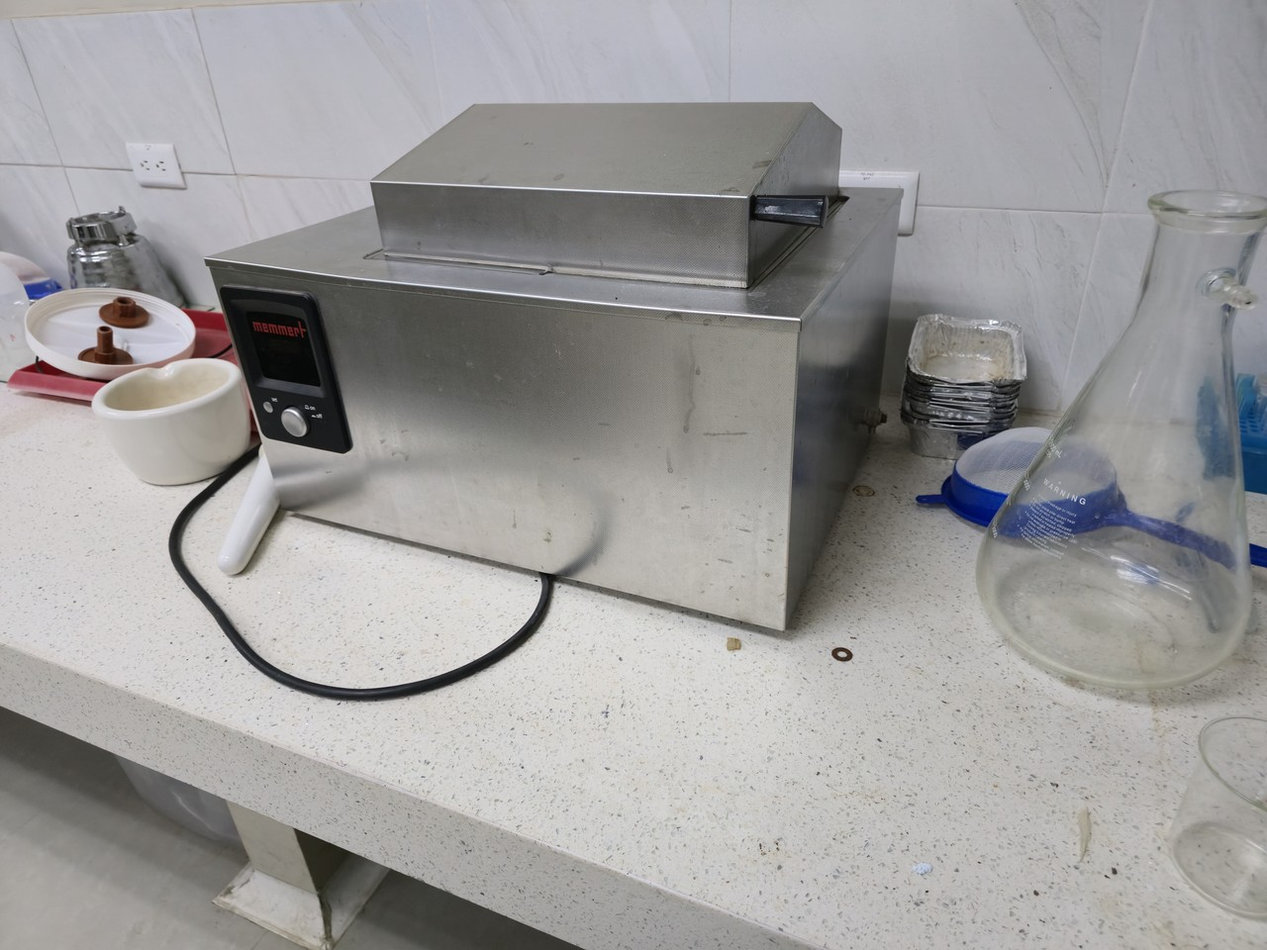memmert: (206, 95, 942, 626)
